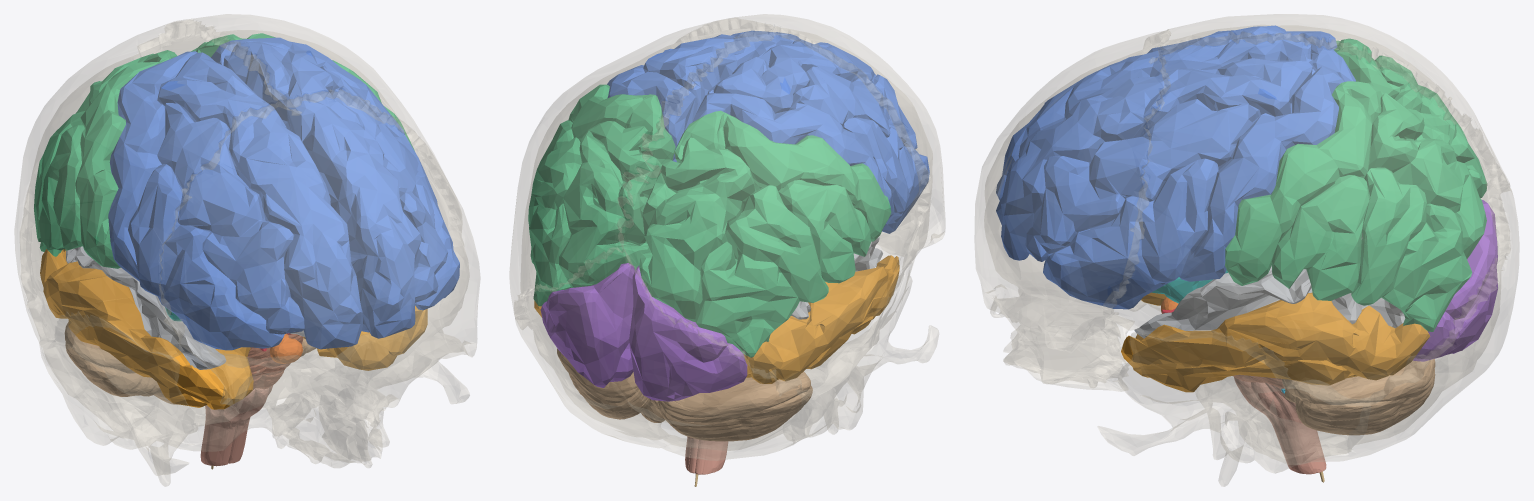
Rendered from bodyparts3d-brain-skull.glb.
3 renders of one model, left to right at view 1: azimuth 30°, elevation 25°; view 2: azimuth 150°, elevation 25°; view 3: azimuth 270°, elevation 25°, orthographic. The views are drawn at different scales.
Parts seen in each view (by area): view 1: neurocranium, frontal_r, frontal_l, temporal_r, parietal_r, deep_r, cerebellum, medulla, temporal_l, pons, parietal_l, pituitary; view 2: neurocranium, parietal_r, parietal_l, frontal_r, cerebellum, occipital_r, temporal_r, frontal_l, occipital_l, medulla, deep_r; view 3: neurocranium, frontal_l, parietal_l, temporal_l, frontal_r, cerebellum, deep_l, parietal_r, occipital_l, medulla, insula_l.
Part boxes in pixels (bbox=[...]): neurocranium: bbox=[14, 14, 480, 486]; frontal_r: bbox=[108, 51, 362, 350]; frontal_l: bbox=[211, 37, 459, 338]; temporal_r: bbox=[40, 249, 253, 409]; parietal_r: bbox=[34, 50, 177, 268]; deep_r: bbox=[66, 246, 305, 369]; cerebellum: bbox=[64, 322, 316, 404]; medulla: bbox=[200, 385, 272, 466]; temporal_l: bbox=[303, 306, 427, 370]; pons: bbox=[247, 334, 303, 389]; parietal_l: bbox=[191, 33, 414, 150]; pituitary: bbox=[270, 333, 302, 363]; neurocranium: bbox=[509, 14, 945, 460]; parietal_r: bbox=[639, 110, 891, 357]; parietal_l: bbox=[528, 84, 675, 306]; frontal_r: bbox=[693, 39, 929, 233]; cerebellum: bbox=[557, 348, 812, 441]; occipital_r: bbox=[629, 265, 747, 401]; temporal_r: bbox=[743, 255, 899, 383]; frontal_l: bbox=[607, 30, 799, 162]; occipital_l: bbox=[540, 263, 634, 387]; medulla: bbox=[685, 436, 728, 474]; deep_r: bbox=[791, 237, 882, 319]; neurocranium: bbox=[974, 14, 1519, 486]; frontal_l: bbox=[996, 58, 1344, 309]; parietal_l: bbox=[1225, 81, 1486, 331]; temporal_l: bbox=[1121, 292, 1430, 392]; frontal_r: bbox=[996, 25, 1355, 200]; cerebellum: bbox=[1282, 359, 1435, 435]; deep_l: bbox=[1134, 233, 1405, 338]; parietal_r: bbox=[1334, 38, 1487, 198]; occipital_l: bbox=[1413, 235, 1497, 361]; medulla: bbox=[1234, 377, 1326, 474]; insula_l: bbox=[1151, 270, 1227, 303].
Size of the model in its own units: 0.151 by 0.1776 by 0.1954.
